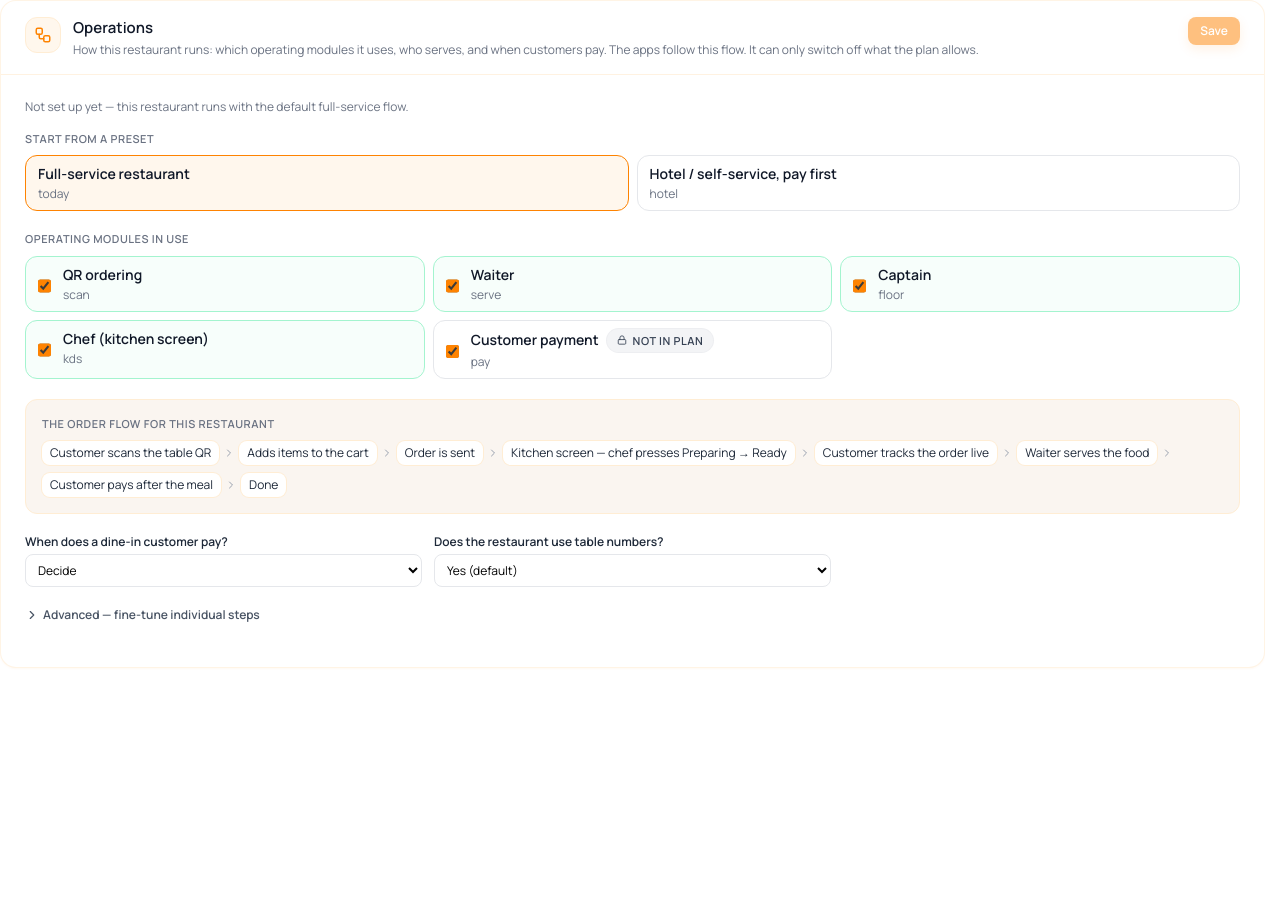
Test: OperationsPanel › optimistic concurrency: 409 OPERATIONS_STALE › without the latest payload in the body it refetches the profile
The image size is (1280, 900).
Expected: the element with test id "ops-modules" is shown, top-left (25, 256), bottom-right (1240, 379)
Click the checkbox labelled "Waiter" at (452, 286), box top-left (446, 268), bottom-right (459, 302)
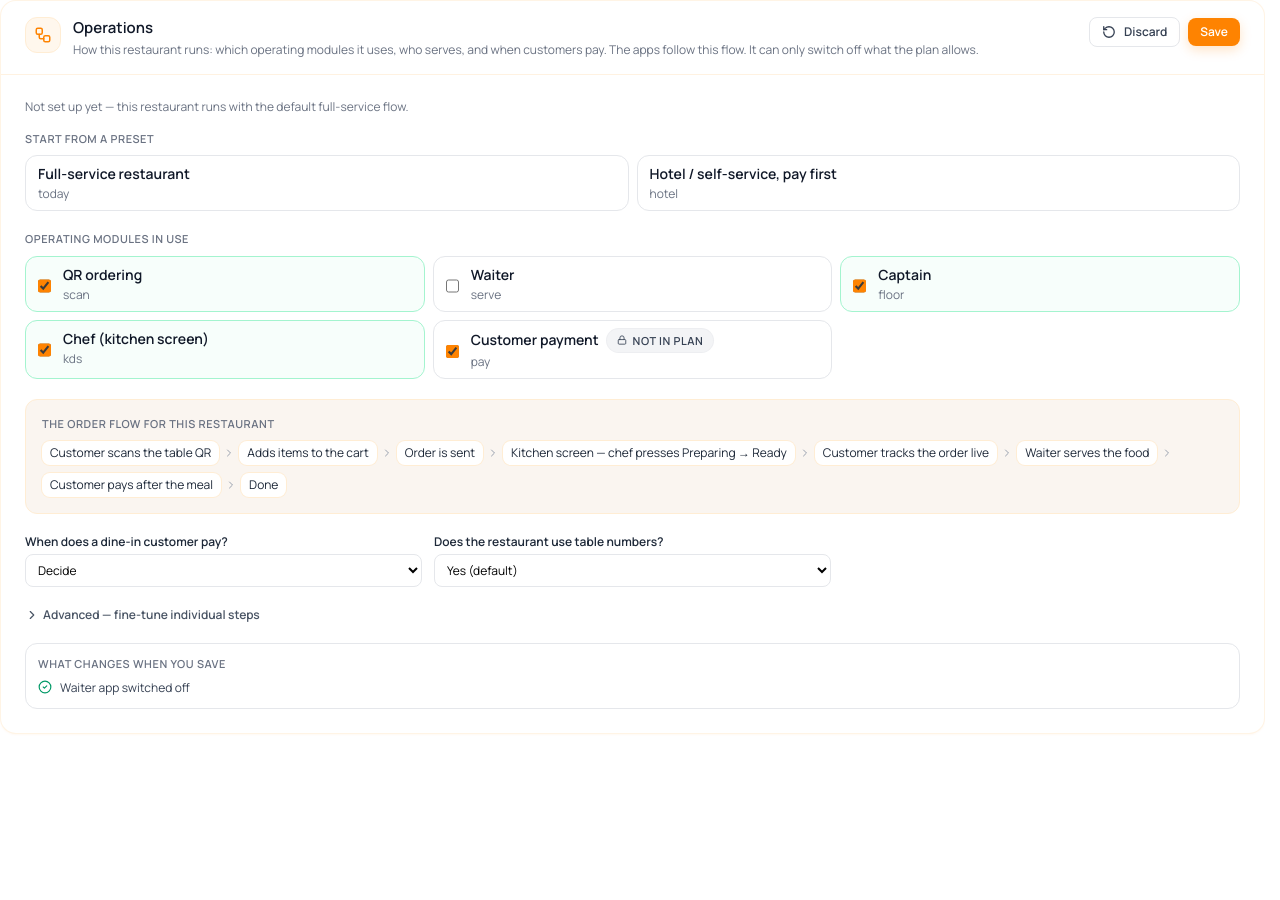
Click the button "Save" at (1214, 32), box top-left (1188, 18), bottom-right (1240, 46)
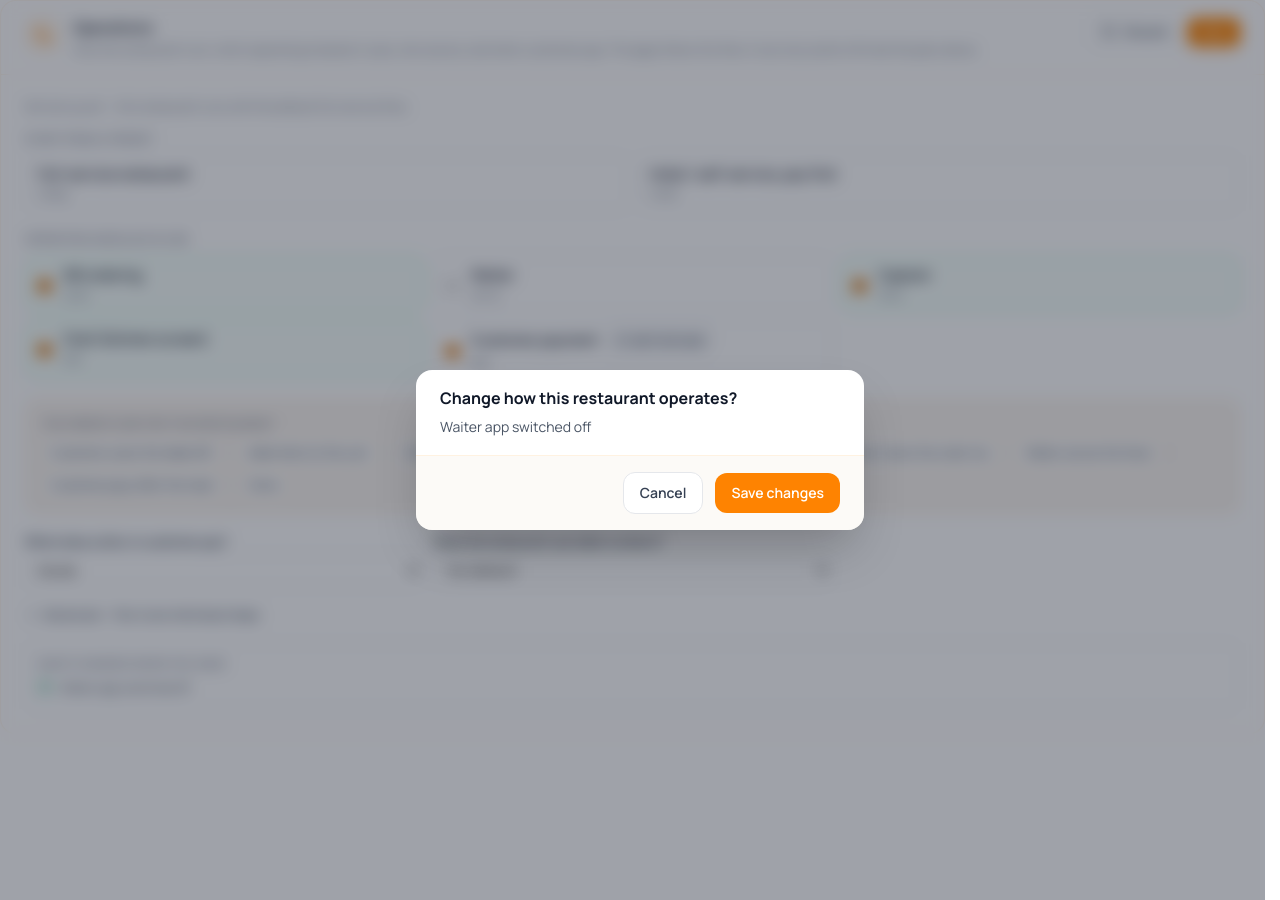
Click the button "Save changes" at (778, 493), box top-left (715, 473), bottom-right (840, 513)
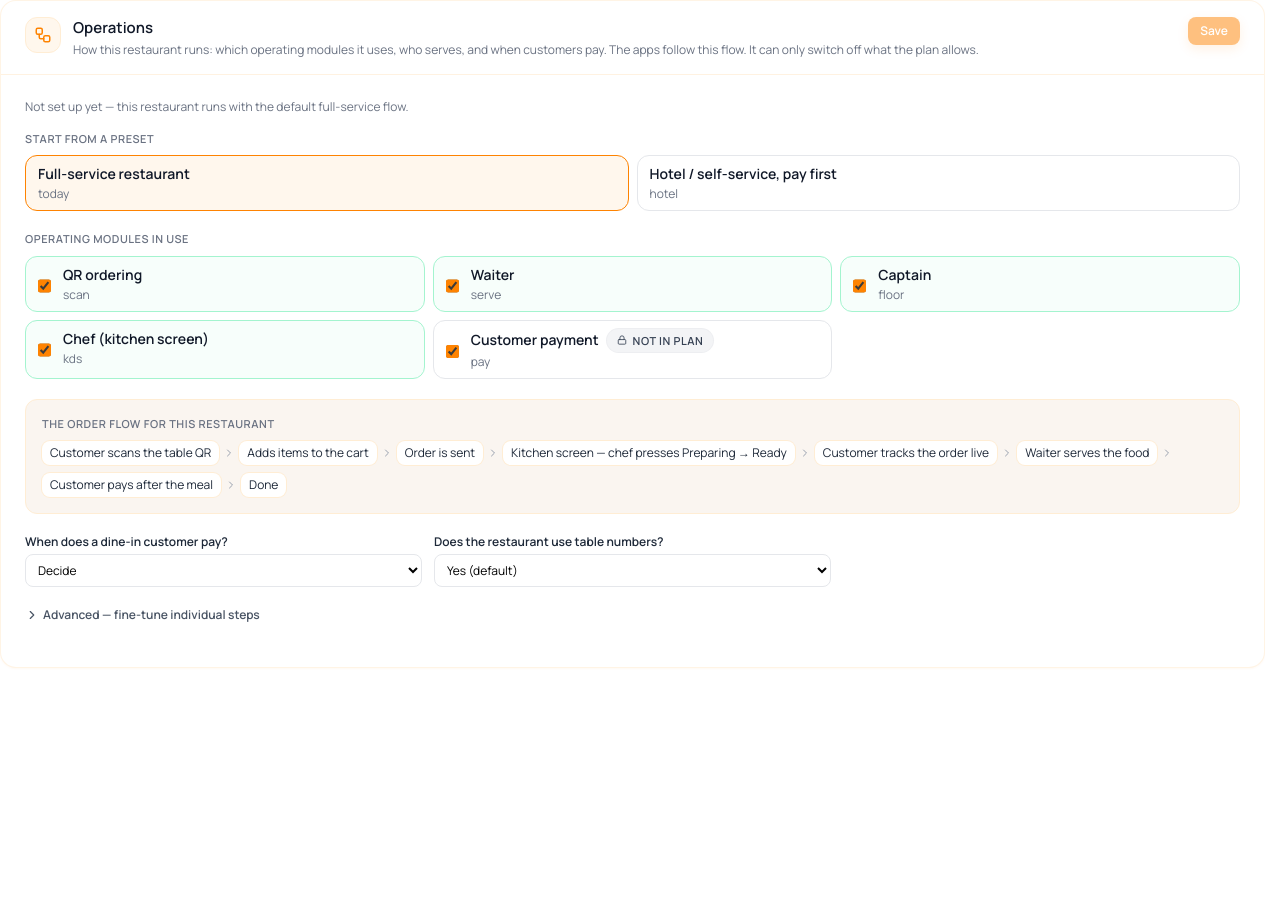
Now the checkbox labelled "Waiter" is checked, box top-left (446, 268), bottom-right (459, 302)
Now the button "Save" is disabled, box top-left (1188, 17), bottom-right (1240, 45)
